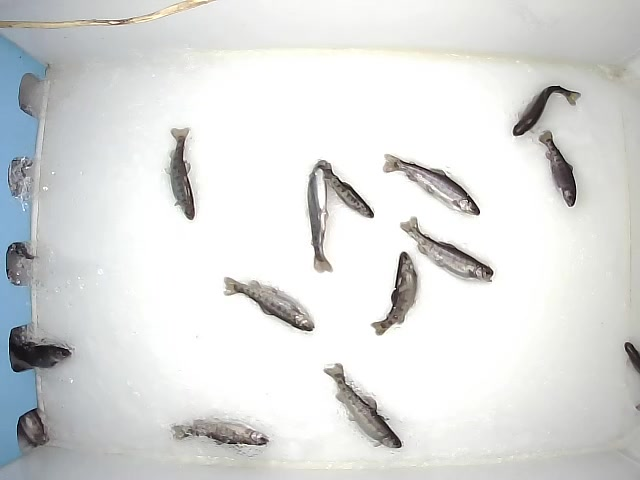fish: (321, 360, 402, 451), (381, 151, 481, 218), (398, 215, 495, 284), (221, 273, 316, 333), (368, 250, 419, 337), (313, 157, 375, 219), (510, 84, 581, 137), (163, 126, 197, 221), (537, 129, 577, 208), (170, 417, 268, 448), (305, 166, 333, 274), (6, 341, 73, 371)
